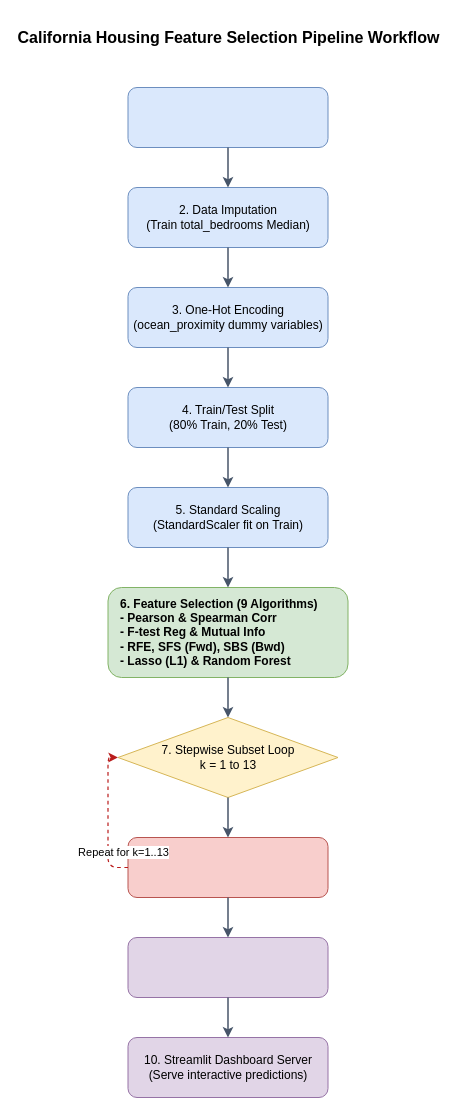
Image size: 456x1115. Some labels were removed from this diagram. The centre of each missing label's shape, as x and y in pixels:
1. Data Ingestion (Download housing.csv): pixel 227 117
8. Model Evaluation (Train Linear Reg on top k, Evaluate Test R2 & MSE): pixel 227 867
9. Sweet Spot & Visual Generation (Save combined plot and table): pixel 227 967
